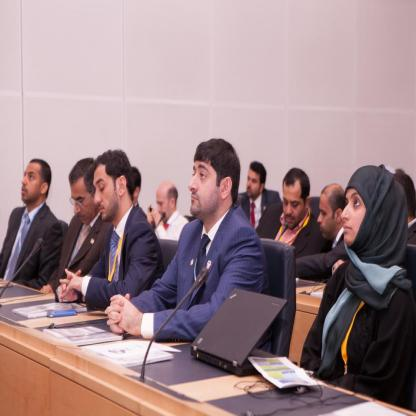board: (185, 286, 283, 383)
